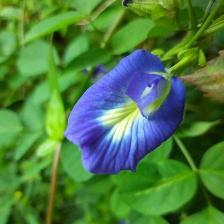shankupushpam: (64, 47, 209, 178)
